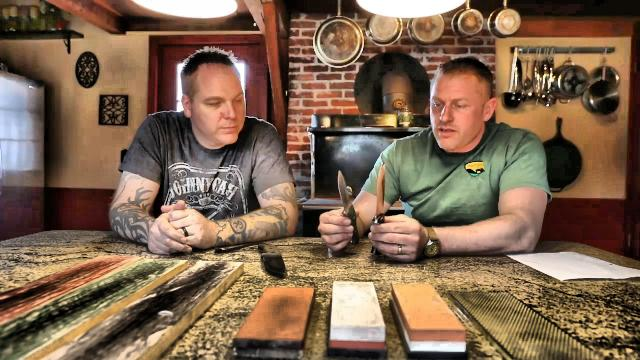knife: (371, 154, 417, 238), (314, 163, 362, 237)
